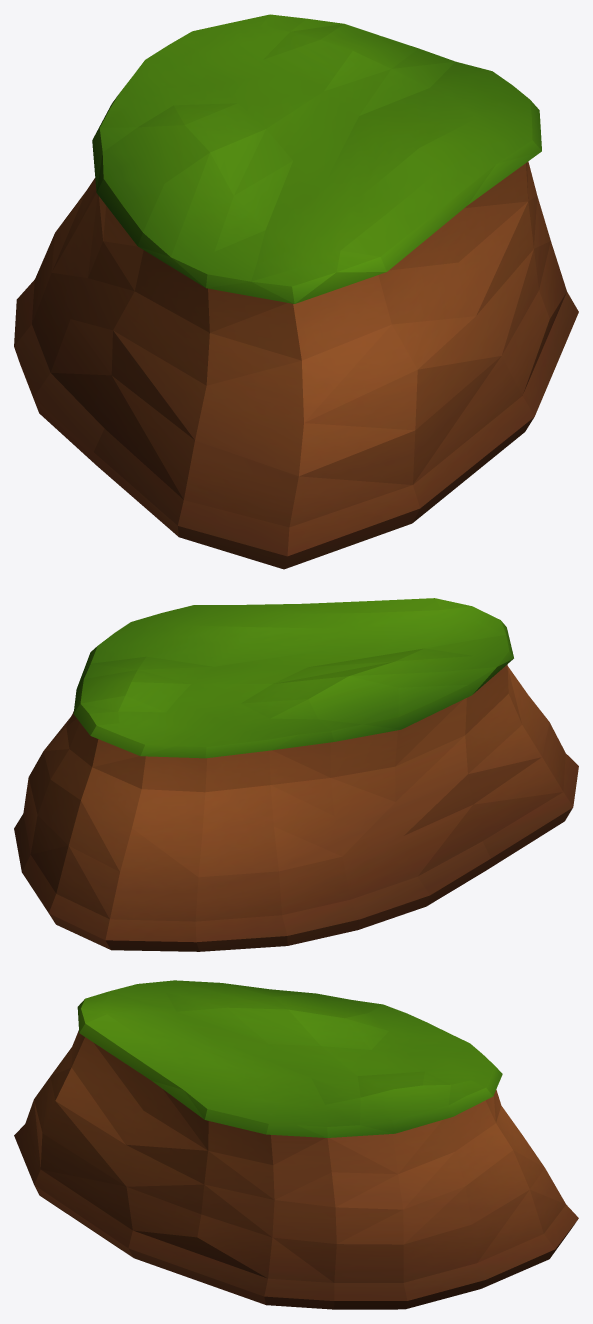
Rendered from hill_004.fbx.
3 renders of one model, top to bottom at view 1: azimuth 30°, elevation 25°; view 2: azimuth 150°, elevation 25°; view 3: azimuth 270°, elevation 25°, orthographic. The views are drawn at different scales.
Visible parts, largest first — view 1: hill.004; view 2: hill.004; view 3: hill.004.
Part boxes in pixels (box(x1,y1,x2,y2)): hill.004: box(14, 14, 578, 569); hill.004: box(14, 598, 578, 951); hill.004: box(14, 980, 578, 1309).
Size of the model in its own units: 1781 by 798 by 2288.
